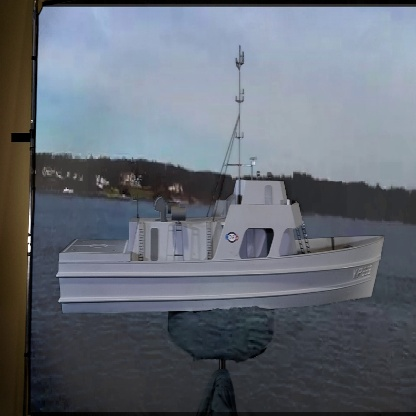YP689: (56, 43, 386, 317)
